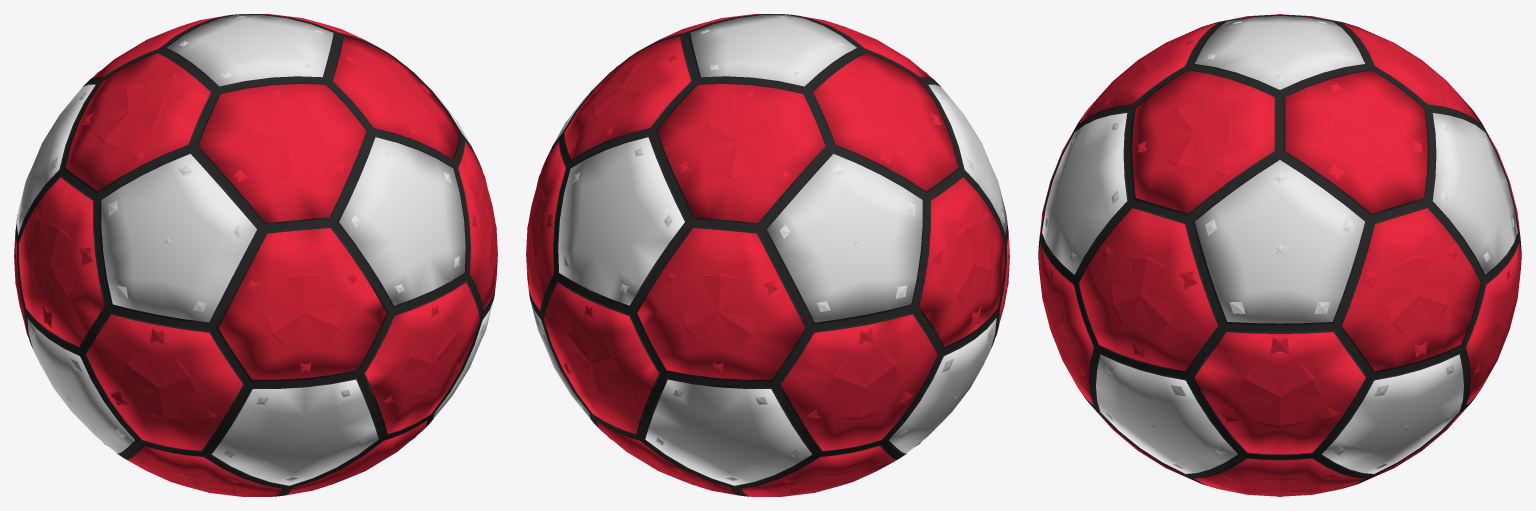
Rendered from foot_ball.fbx.
3 views of the same model, side by side, from view 1: azimuth 30°, elevation 25°; view 2: azimuth 150°, elevation 25°; view 3: azimuth 270°, elevation 25° (orthographic).
Parts seen in each view (by area): view 1: hp_foot_ball, lp_foot_ball; view 2: hp_foot_ball, lp_foot_ball; view 3: hp_foot_ball, lp_foot_ball.
Part boxes in pixels (<box>): hp_foot_ball: <box>14,14,497,496</box>; lp_foot_ball: <box>15,16,496,493</box>; hp_foot_ball: <box>526,14,1009,496</box>; lp_foot_ball: <box>527,16,1008,493</box>; hp_foot_ball: <box>1038,14,1521,496</box>; lp_foot_ball: <box>1043,14,1516,496</box>.
Bounding box in the file's own units: 20 × 20 × 20.
